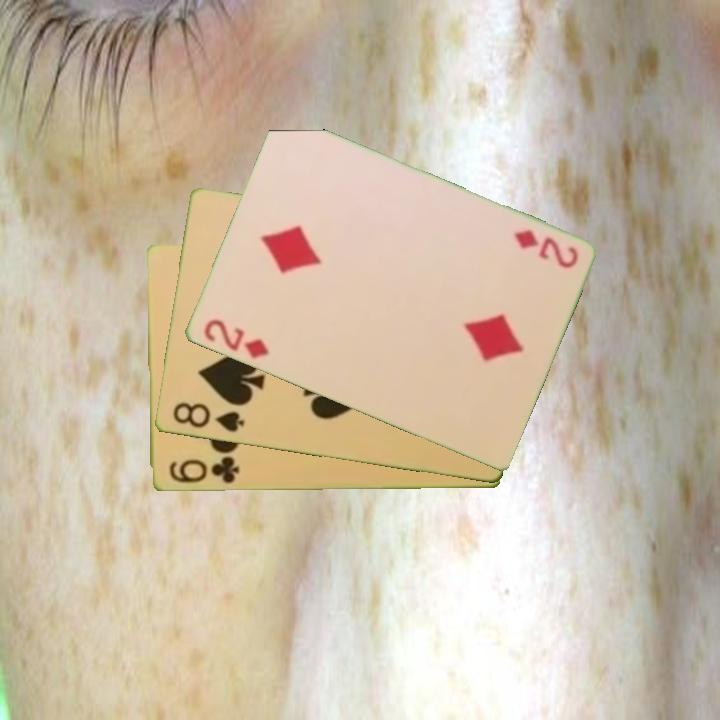2d: (199, 315, 272, 362), (510, 226, 581, 272)
6c: (165, 454, 242, 487)
8s: (169, 399, 247, 436)
